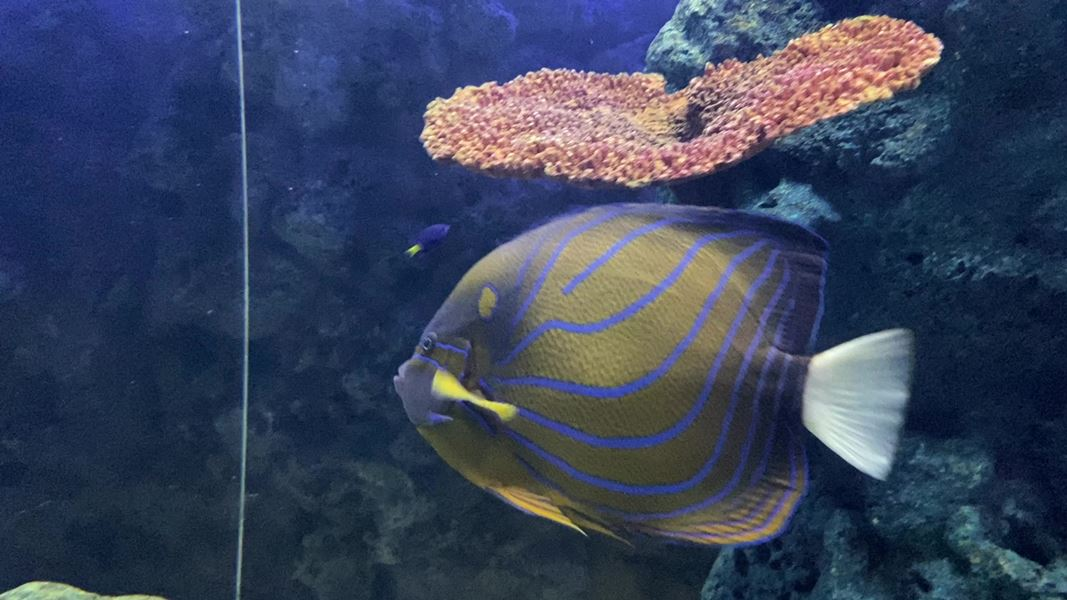Blue ring angelfish: (381, 179, 934, 563)
